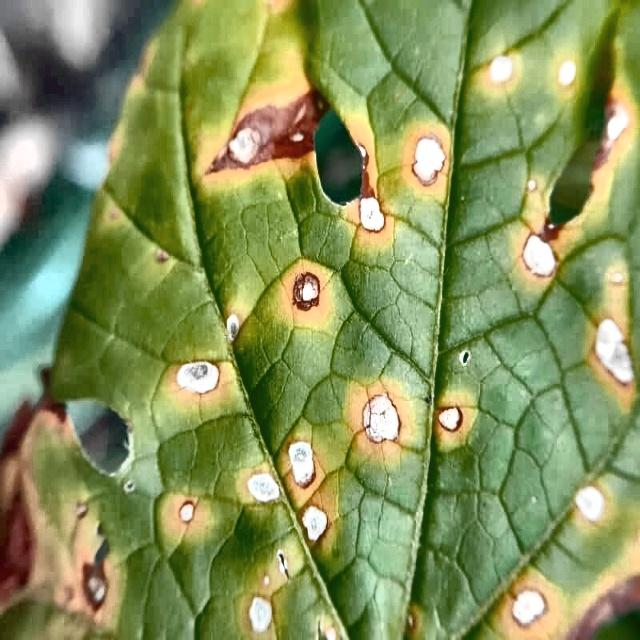leaf_spot: (184, 279, 579, 640)
shot_hole: (267, 16, 406, 269), (501, 33, 640, 286), (39, 310, 177, 563)
